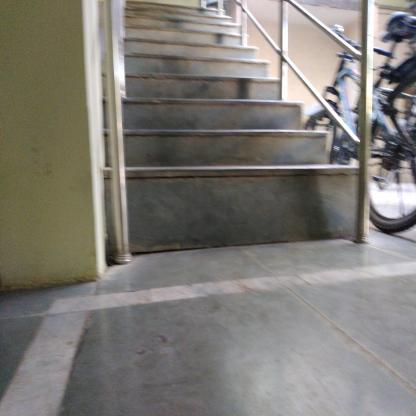stairs: (134, 16, 234, 267)
